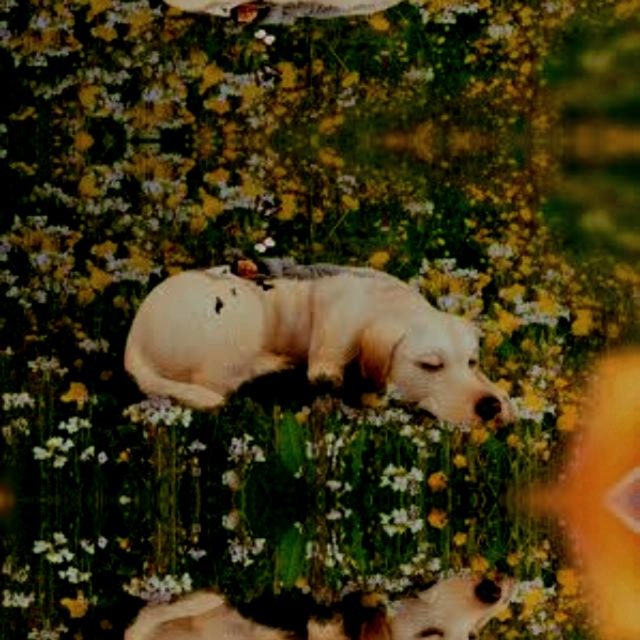dog: (99, 220, 493, 455), (99, 543, 493, 640), (99, 0, 493, 59)
